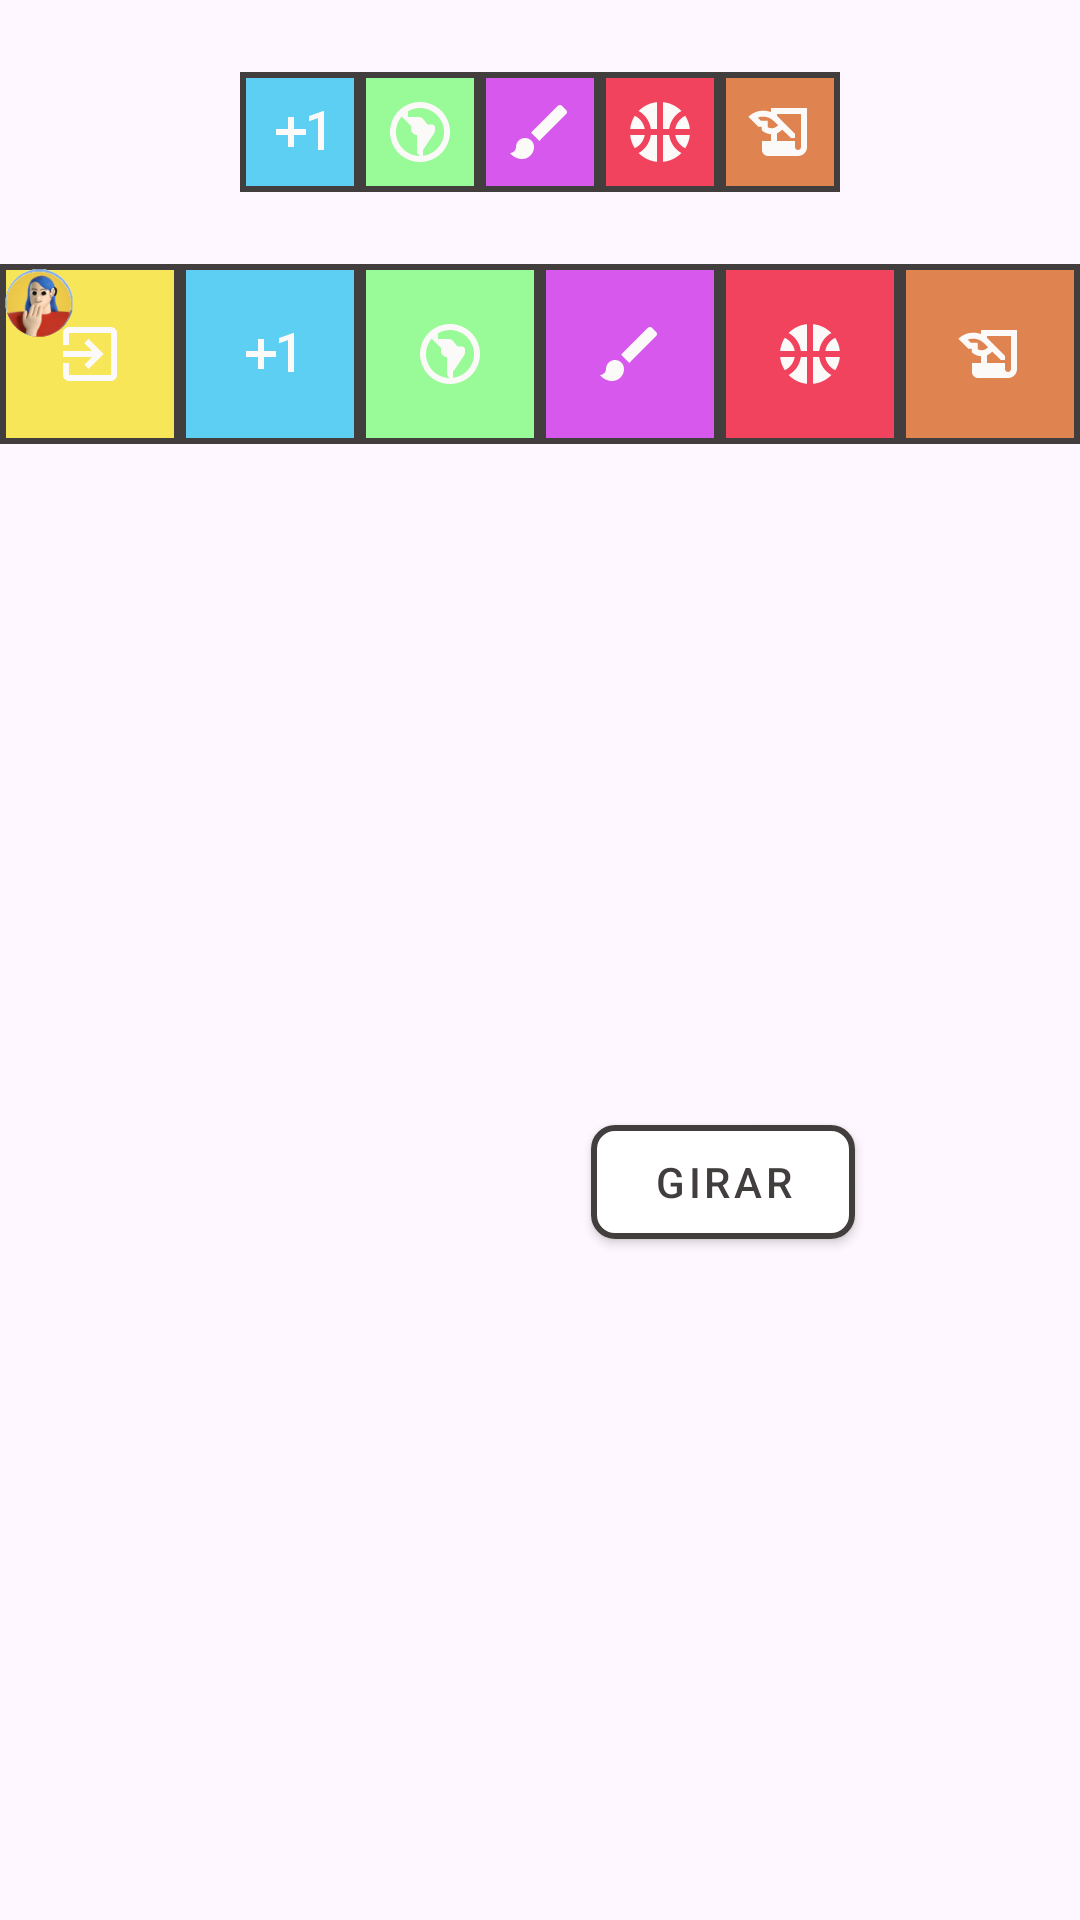

Where icons sit on this 1080w x 1920h app screen, as (x1, y1, x2, y2):
art: (486, 78, 594, 186), (546, 270, 714, 438)
ball: (606, 78, 714, 186), (726, 270, 894, 438)
geography: (366, 78, 474, 186), (366, 270, 534, 438)
history: (720, 72, 840, 192), (906, 270, 1074, 438)
math: (240, 72, 360, 192), (186, 270, 354, 438)
